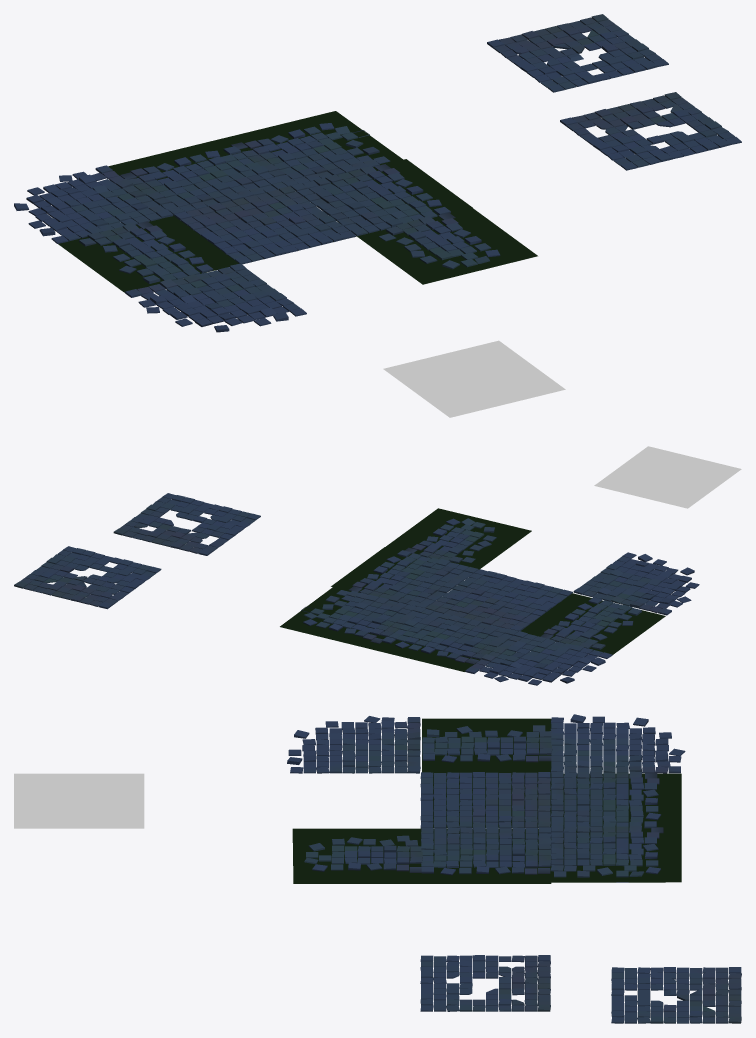
Rendered from tiles.fbx.
The picture shows the model from 3 angles, top to bottom: view 1: azimuth 30°, elevation 25°; view 2: azimuth 150°, elevation 25°; view 3: azimuth 270°, elevation 25°; orthographic projection. The views are drawn at different scales.
Parts seen in each view (by area): view 1: midTile4, upTile2, emptyTile, threewaytile2, twowaytile, upTile1, midTile2, cornerTile2, midTile3, SWTile, NWTIle; view 2: upTile1, midTile4, emptyTile, cornerTile2, upTile2, twowaytile, midTile2, threewaytile2, midTile3, NWTIle, SWTile; view 3: cornerTile2, upTile2, emptyTile, midTile4, upTile1, threewaytile2, twowaytile, midTile2, midTile3, SWTile, NWTIle.
Boxes of the visible parts, <box> form: midTile4: <box>174,186,356,264</box>; upTile2: <box>290,159,472,235</box>; emptyTile: <box>383,340,565,417</box>; threewaytile2: <box>357,207,537,284</box>; twowaytile: <box>58,215,238,292</box>; upTile1: <box>108,138,287,215</box>; midTile2: <box>487,14,668,92</box>; cornerTile2: <box>222,111,403,186</box>; midTile3: <box>560,92,741,170</box>; SWTile: <box>125,263,306,332</box>; NWTIle: <box>14,165,172,243</box>; upTile1: <box>371,609,518,671</box>; midTile4: <box>426,569,572,631</box>; emptyTile: <box>594,446,741,508</box>; cornerTile2: <box>280,587,426,649</box>; upTile2: <box>331,547,478,608</box>; twowaytile: <box>521,593,665,654</box>; midTile2: <box>14,546,161,609</box>; threewaytile2: <box>386,508,531,569</box>; midTile3: <box>113,493,260,555</box>; NWTIle: <box>465,631,612,685</box>; SWTile: <box>573,552,699,615</box>; cornerTile2: <box>550,826,681,882</box>; upTile2: <box>421,827,551,883</box>; emptyTile: <box>14,773,144,828</box>; midTile4: <box>420,772,551,828</box>; upTile1: <box>550,771,681,828</box>; threewaytile2: <box>292,828,422,883</box>; twowaytile: <box>422,718,552,773</box>; midTile2: <box>611,967,741,1023</box>; midTile3: <box>420,955,550,1011</box>; SWTile: <box>287,716,420,773</box>; NWTIle: <box>550,714,685,773</box>.
Bounding box in the file's own units: 14.17 × 0.0935 × 14.19.
